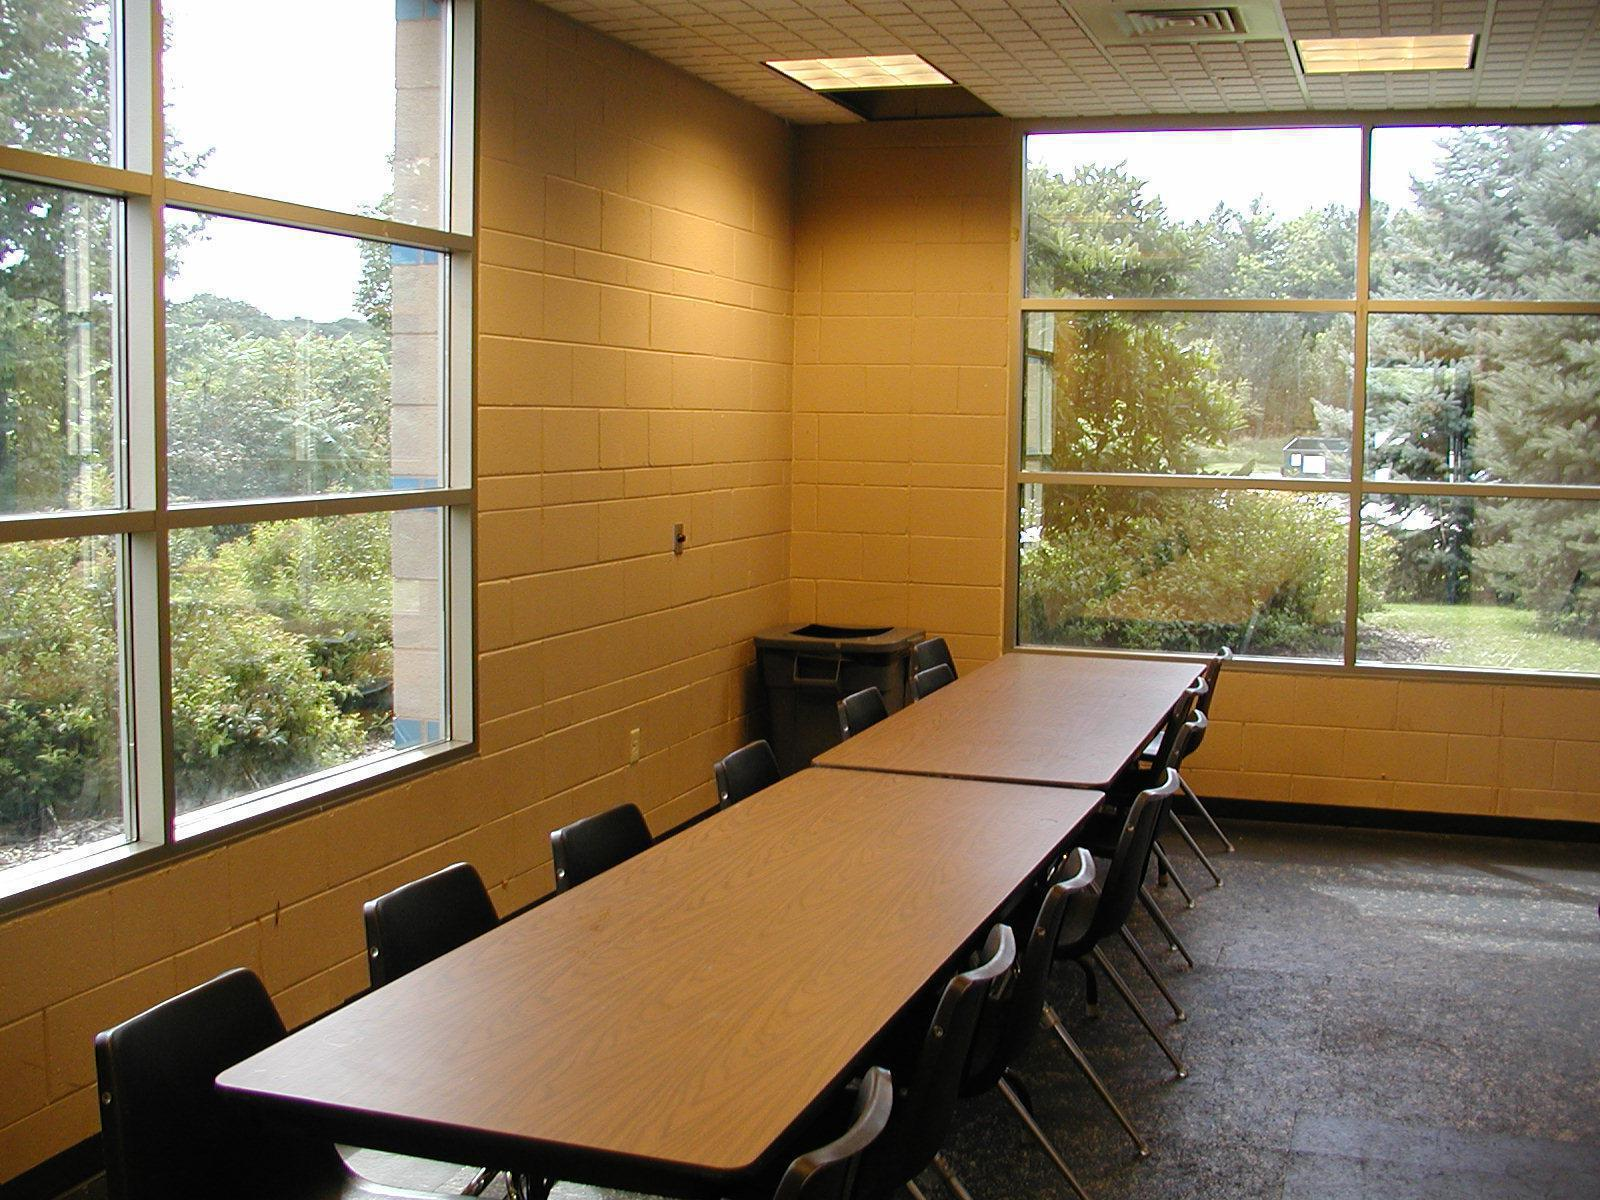Otro Obstaculo: (769, 638, 891, 713)
Ventana: (6, 19, 446, 787), (1008, 139, 1584, 666)
